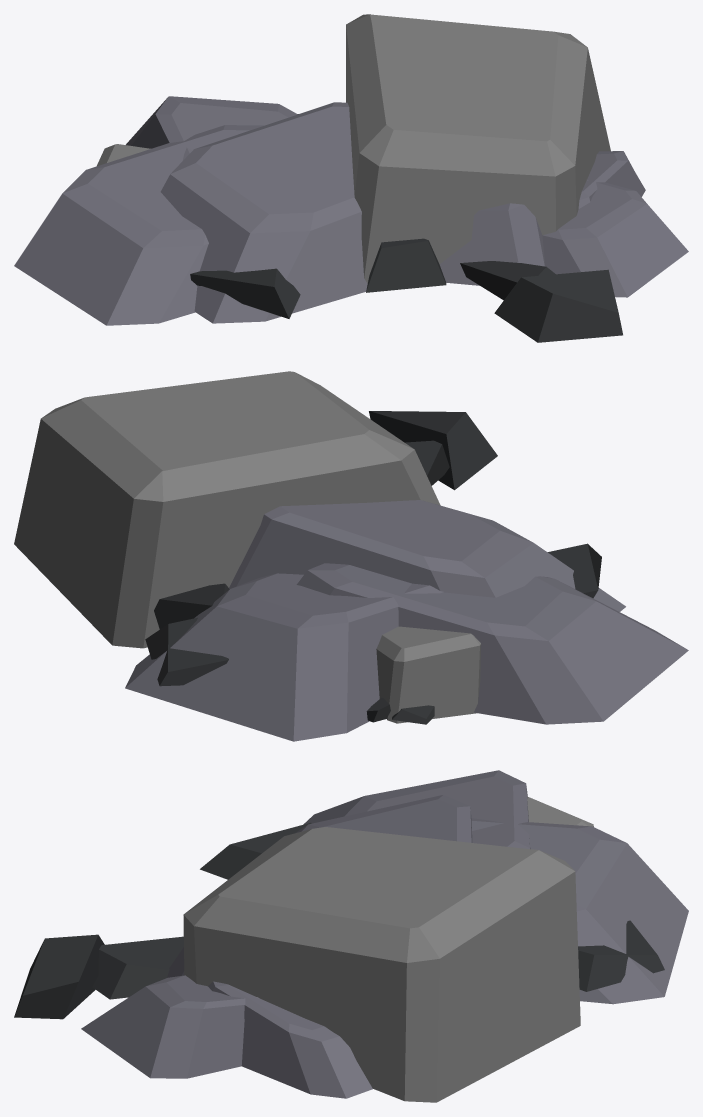
File: RockPatch#4.fbx
The picture shows the model from 3 angles, top to bottom: view 1: azimuth 30°, elevation 25°; view 2: azimuth 150°, elevation 25°; view 3: azimuth 270°, elevation 25°; orthographic projection. The views are drawn at different scales.
Parts seen in each view (by area): view 1: RockPatch#4; view 2: RockPatch#4; view 3: RockPatch#4.
Boxes of the visible parts, x1=… form: RockPatch#4: x1=14, y1=14, x2=688, y2=342; RockPatch#4: x1=14, y1=371, x2=688, y2=741; RockPatch#4: x1=14, y1=770, x2=688, y2=1102.
Size of the model in its own units: 1046 by 267 by 1010.
